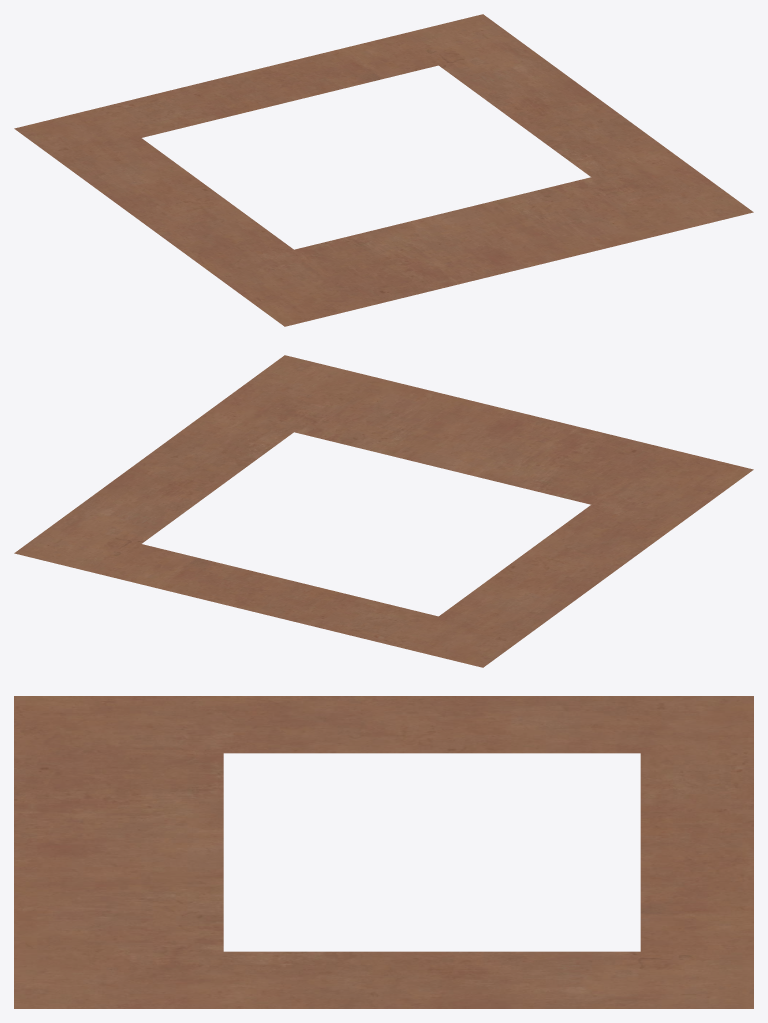
The model's file is wall_window_centered_large_02.gltf.
3 renders of one model, top to bottom at view 1: azimuth 30°, elevation 25°; view 2: azimuth 150°, elevation 25°; view 3: azimuth 270°, elevation 25°, orthographic. The views are drawn at different scales.
Parts seen in each view (by area): view 1: wall_window_centered_large_02; view 2: wall_window_centered_large_02; view 3: wall_window_centered_large_02.
Boxes of the visible parts, <box> form: wall_window_centered_large_02: <box>14,14,753,326</box>; wall_window_centered_large_02: <box>14,355,753,667</box>; wall_window_centered_large_02: <box>14,696,753,1008</box>.
Size of the model in its own units: 3 by 6.66e-16 by 3.
Materials: 1 (1 with a texture image).
